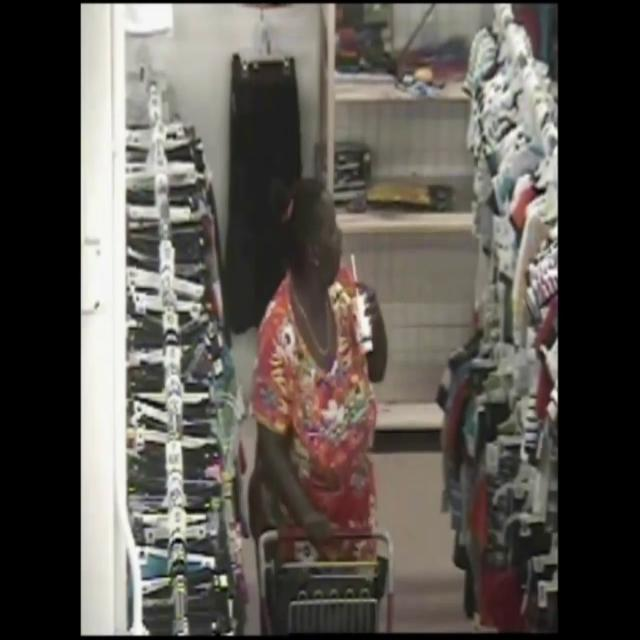normal: (226, 102, 412, 548)
